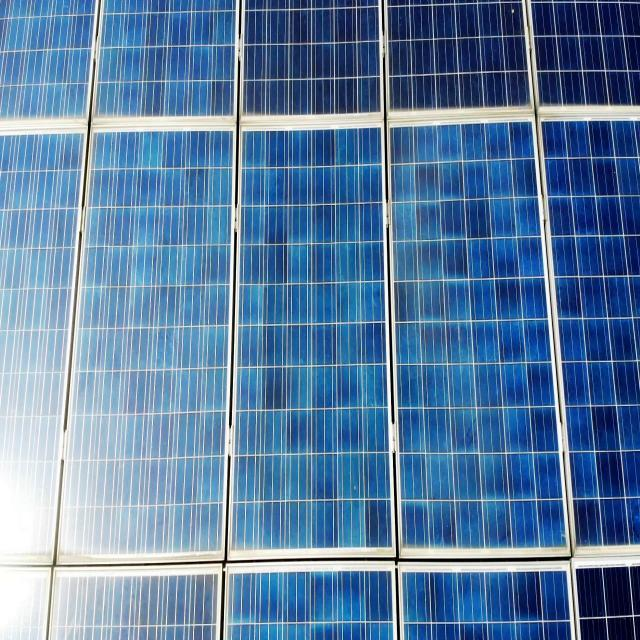no faulty: (387, 121, 573, 560), (58, 128, 234, 564), (236, 120, 394, 558), (0, 0, 640, 108)
